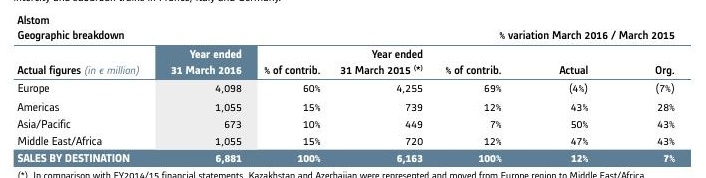table: (0, 0, 706, 178)
